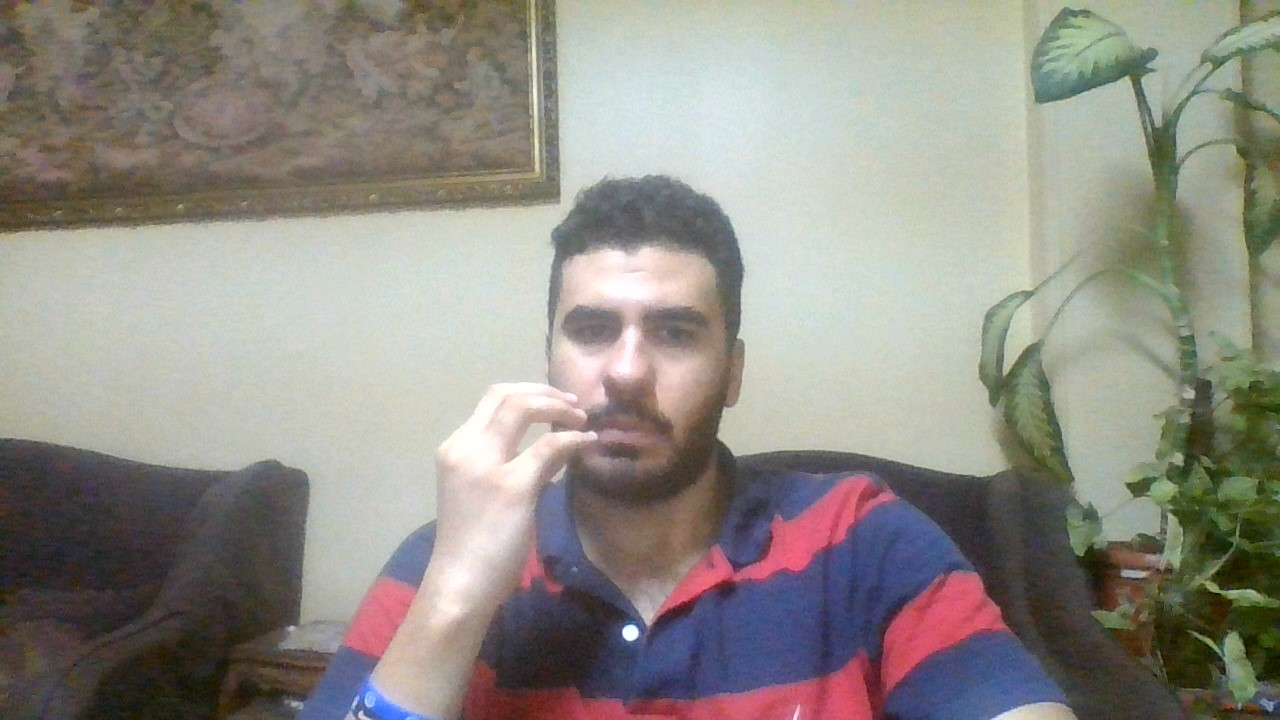eat: (426, 373, 597, 570)
